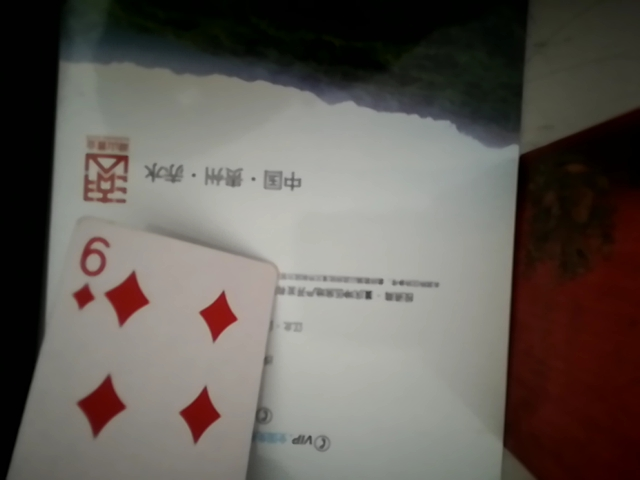fk 6: (18, 211, 288, 479)
